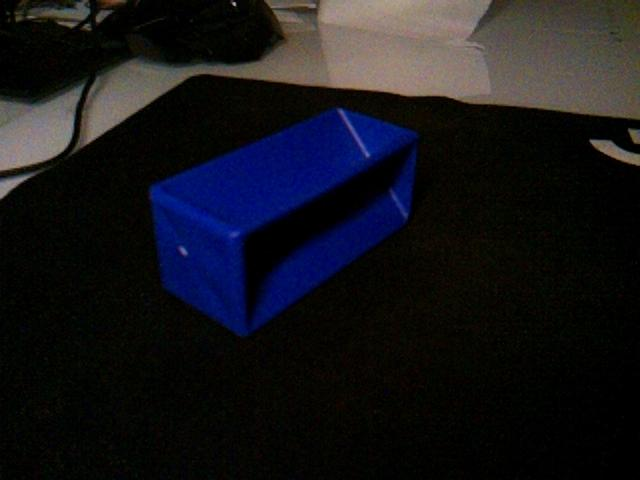blue: (147, 105, 421, 338)
